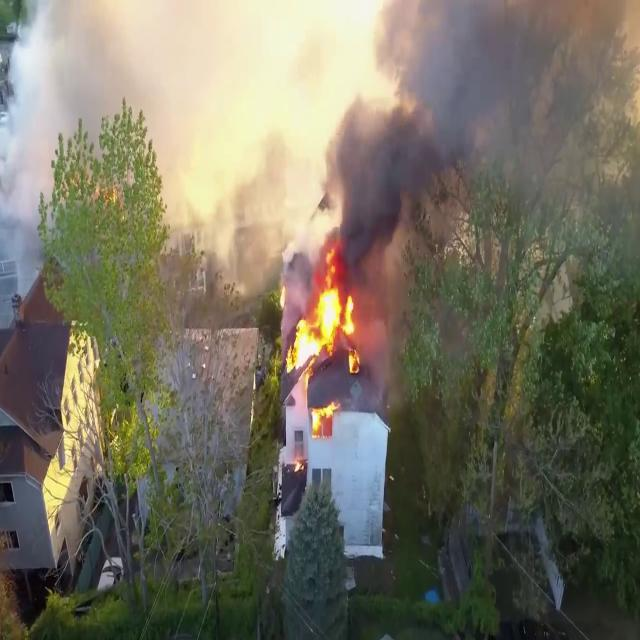Fire: (284, 269, 366, 376), (308, 396, 340, 434)
Smoke: (322, 0, 577, 275)
